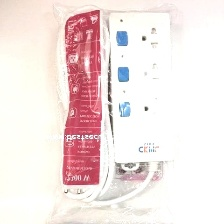three_eye_plug: (105, 6, 176, 167)
